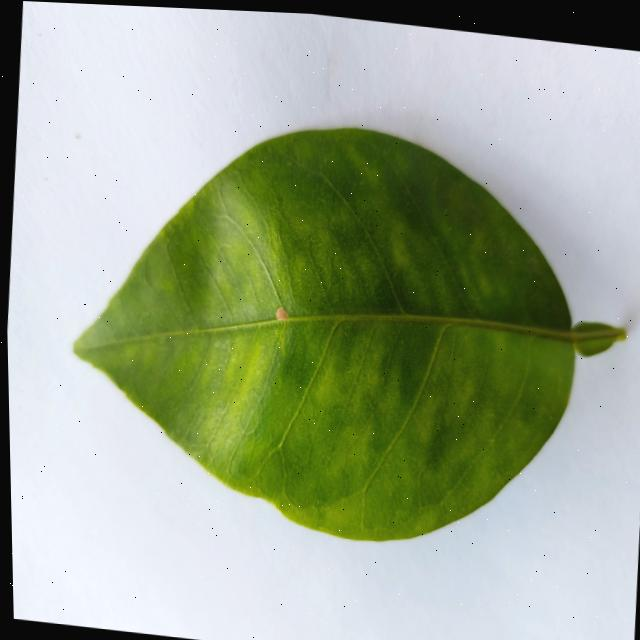greening: (73, 128, 620, 538)
